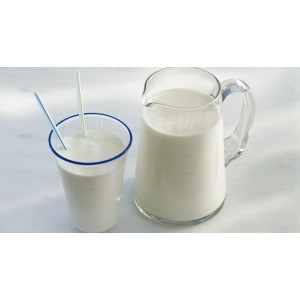milk_brain food: (137, 84, 226, 221), (45, 119, 127, 223)
